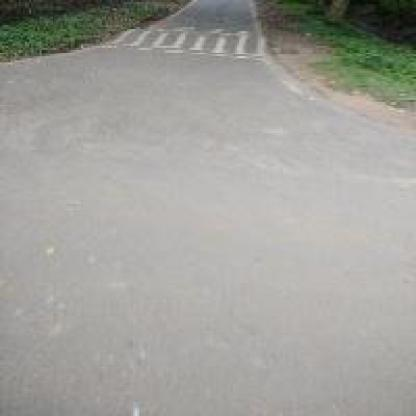Speed Bump: (96, 23, 266, 62)
